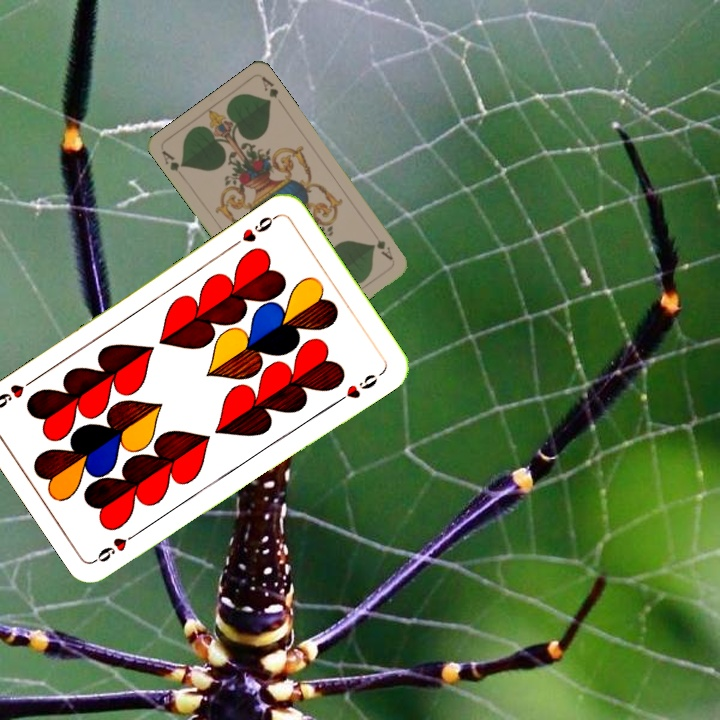GA: (368, 227, 396, 263), (158, 146, 188, 174)
H9: (91, 526, 144, 565), (229, 210, 281, 249)
